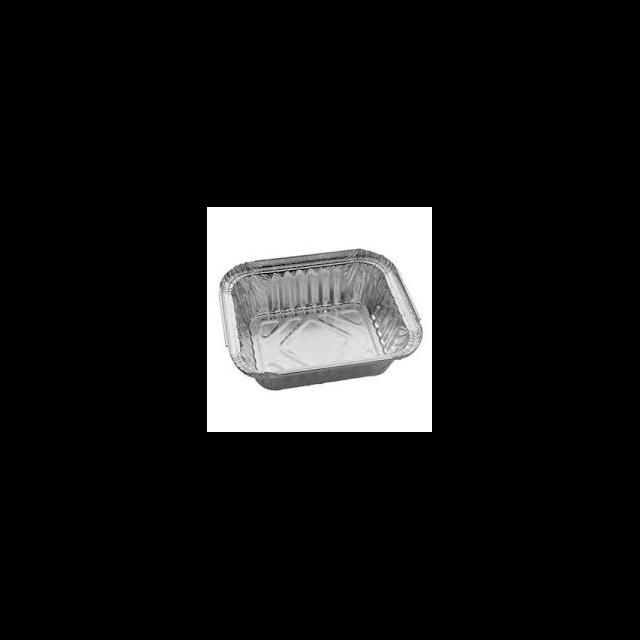metal: (218, 248, 422, 388)
